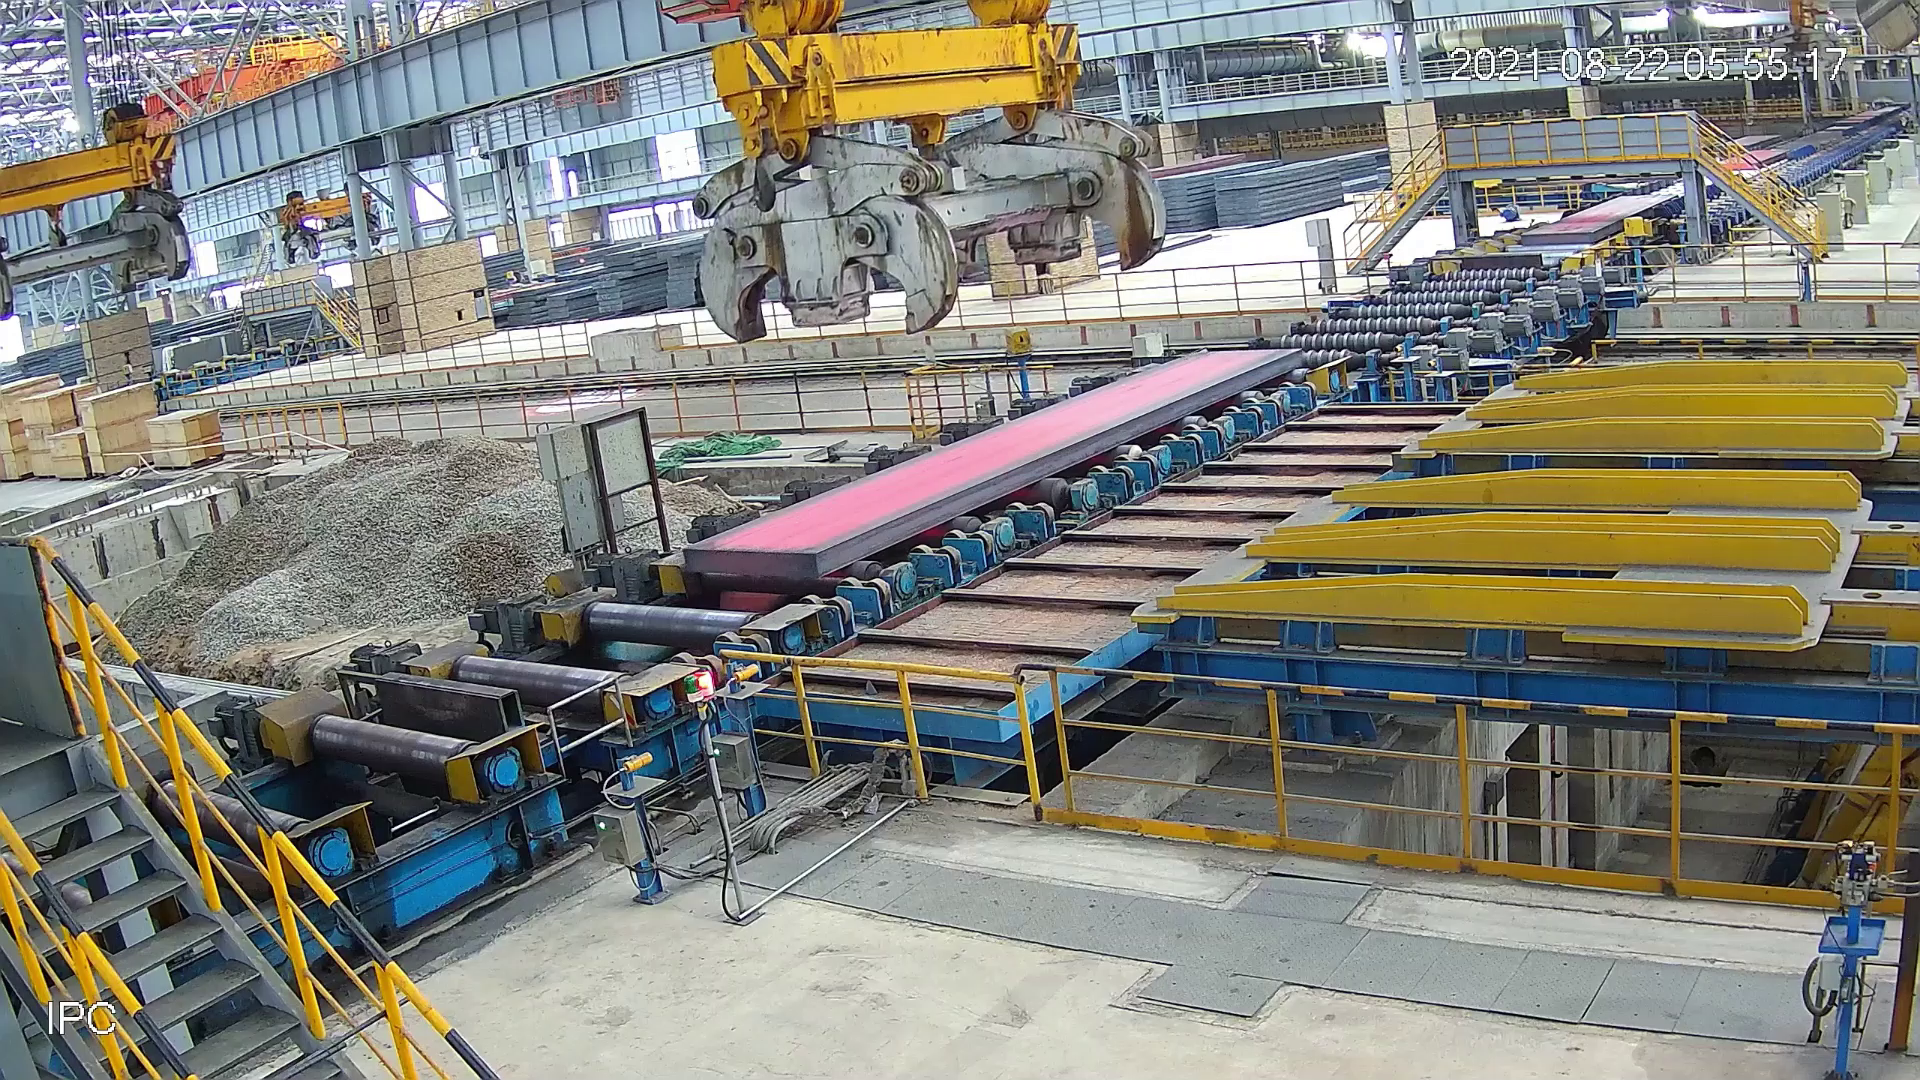crane: (687, 13, 1187, 356)
slab: (667, 336, 1316, 587), (1516, 185, 1687, 248)
